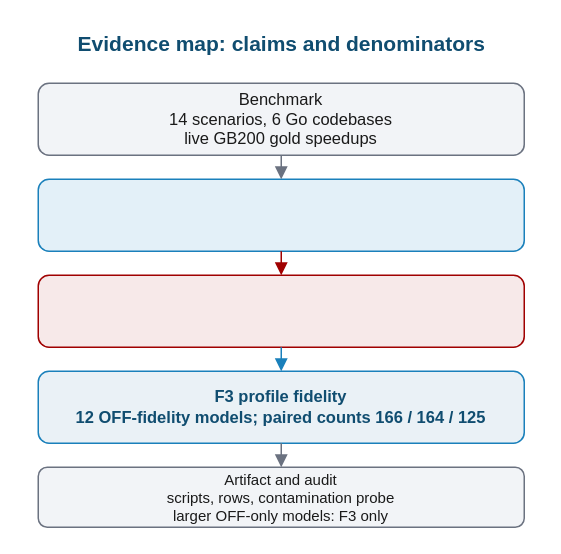
The diagram is 561 pixels wide and 554 high, and some of its shapes have lost their labels. Each missing label, with the box of its shape:
F1/F2 apply and funnel 7 models with matched OFF and ON arms: (37, 178, 524, 251)
Retry-only control matched scenario subset per model; RC only where run: (37, 274, 524, 347)
